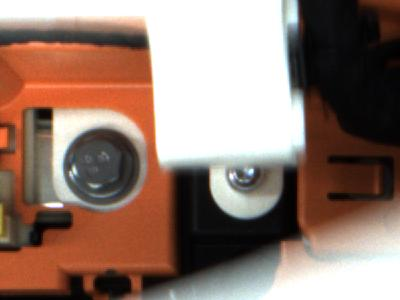nut_b: (62, 129, 145, 204)
